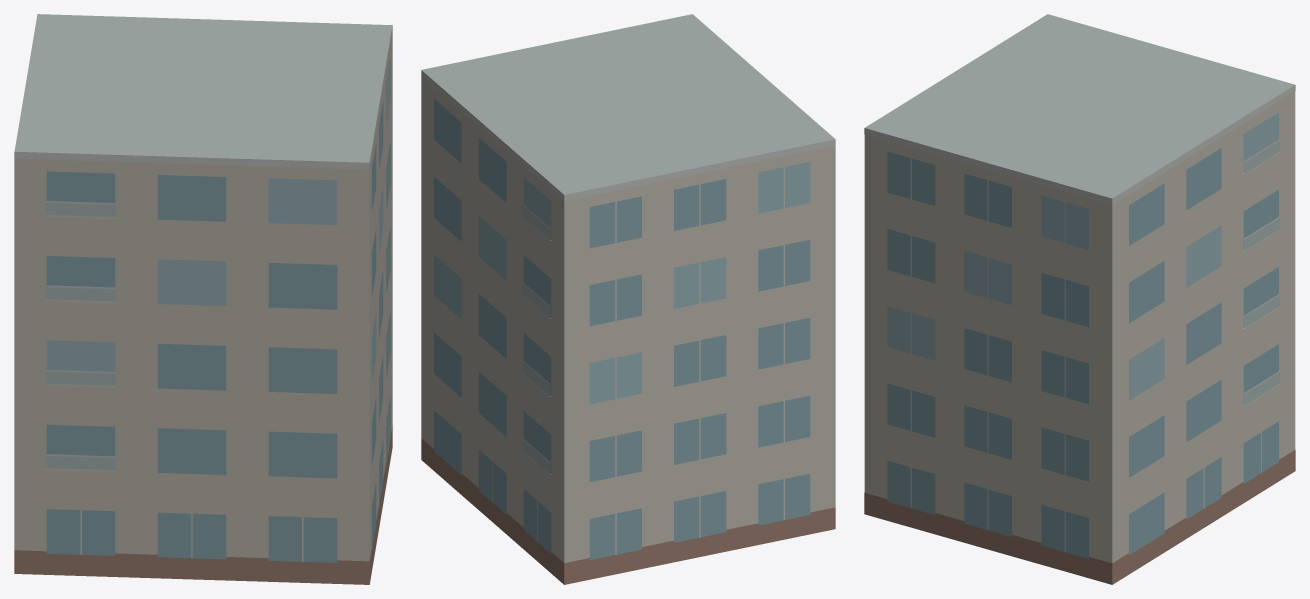
The model's file is survey-upis-32780094.glb.
3 renders of one model, left to right at view 1: azimuth 30°, elevation 25°; view 2: azimuth 150°, elevation 25°; view 3: azimuth 270°, elevation 25°, orthographic. The views are drawn at different scales.
Parts seen in each view (by area): view 1: survey-upis-32780094.tmp; view 2: survey-upis-32780094.tmp; view 3: survey-upis-32780094.tmp.
Part boxes in pixels (bbox=[...]): survey-upis-32780094.tmp: bbox=[14, 14, 392, 584]; survey-upis-32780094.tmp: bbox=[421, 14, 835, 584]; survey-upis-32780094.tmp: bbox=[864, 14, 1295, 584].
Size of the model in its own units: 14.97 by 14.6 by 14.77.
